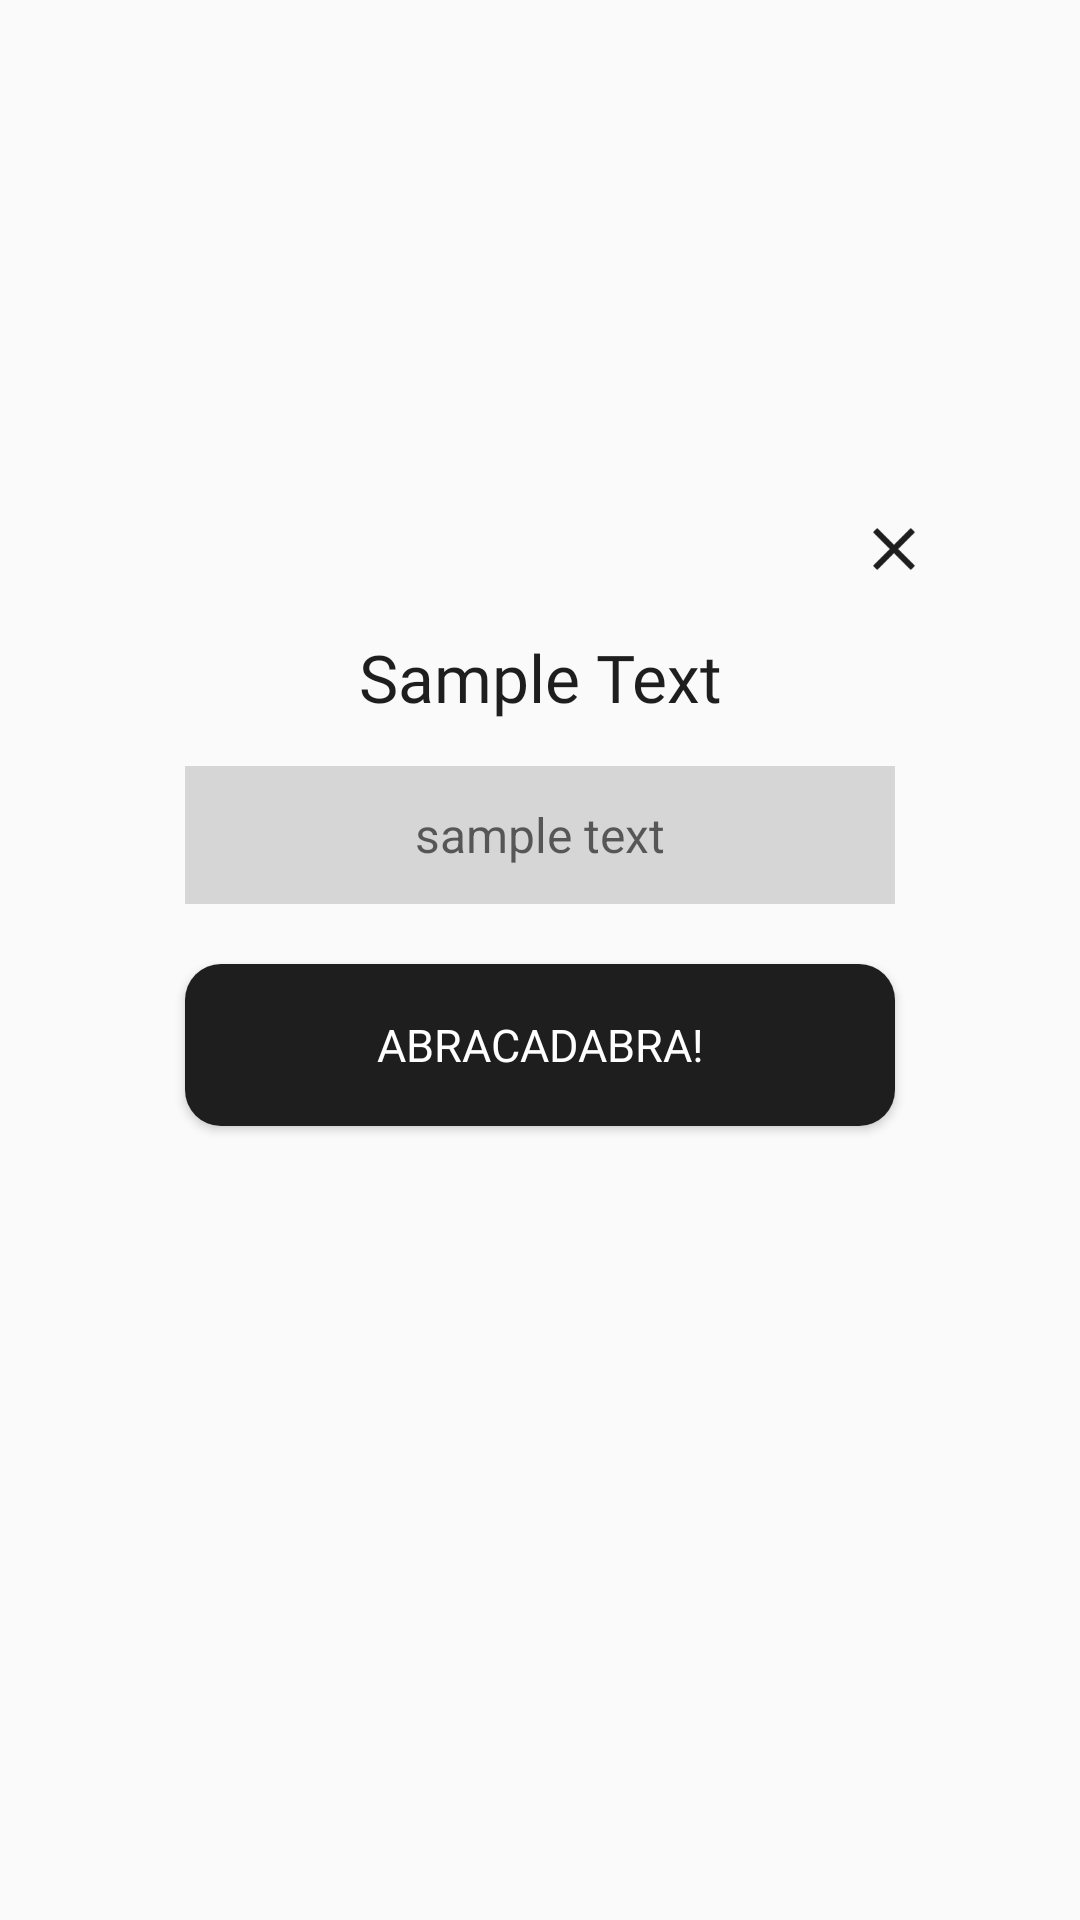

Named icons in this screenshot (1080px x 1920px) and their centers, (x=x, y=y):
cancel: (x=894, y=549)
